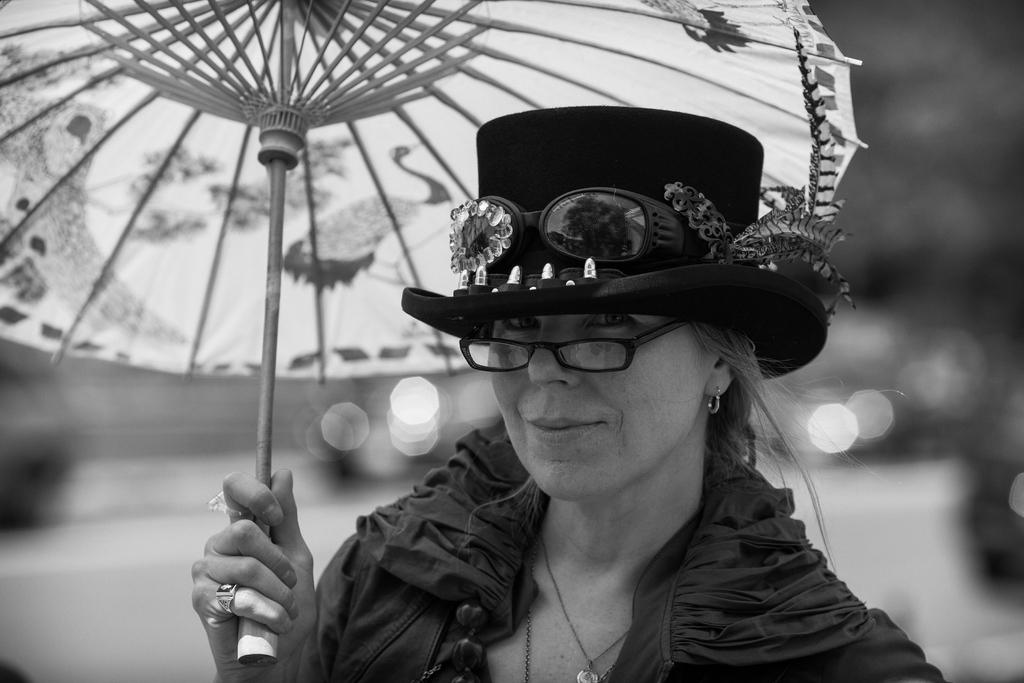Hat: (398, 106, 826, 385)
